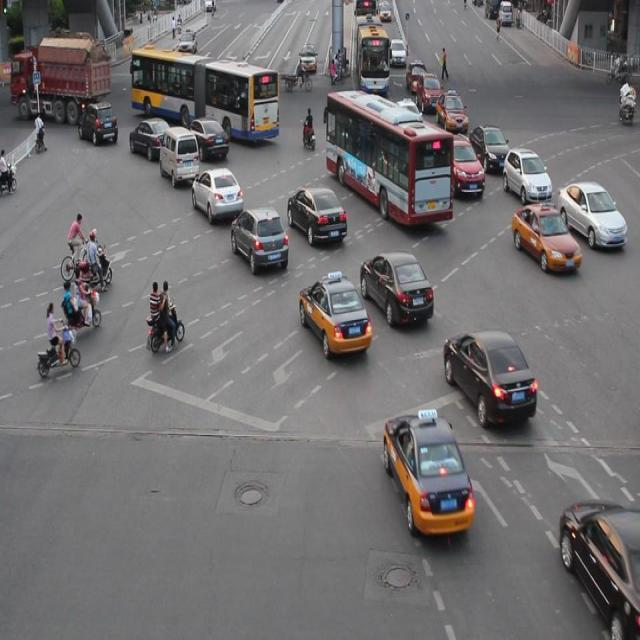BigCar: (314, 85, 460, 231), (127, 37, 286, 155), (0, 39, 123, 135)
